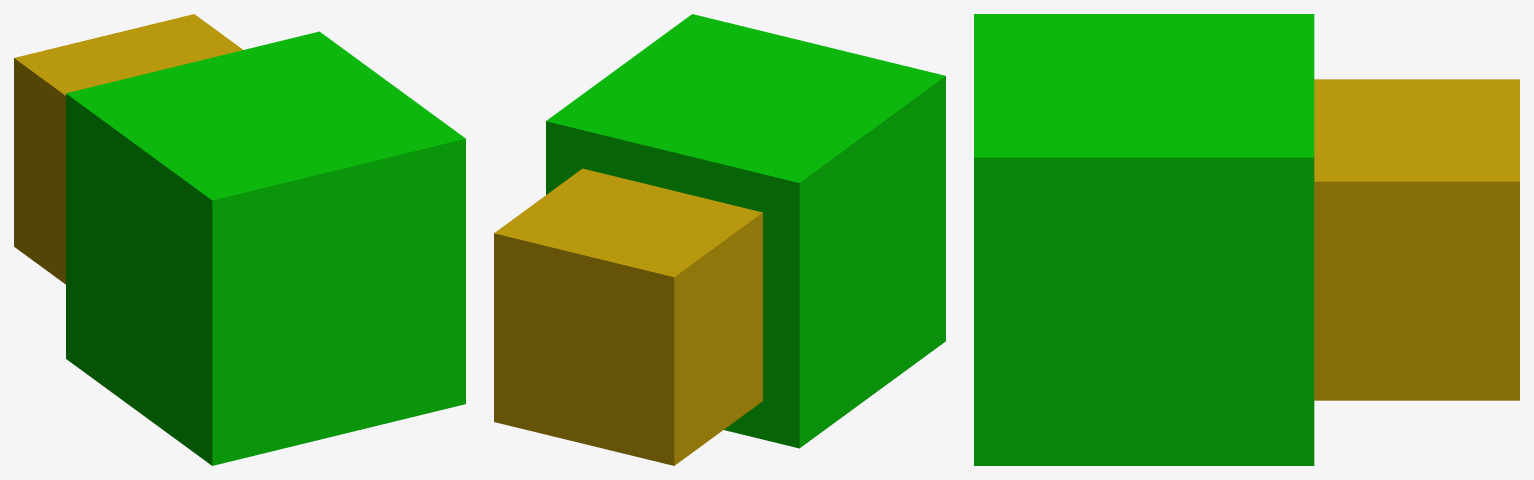
The model's file is bingus.obj.
3 renders of one model, left to right at view 1: azimuth 30°, elevation 25°; view 2: azimuth 150°, elevation 25°; view 3: azimuth 270°, elevation 25°, orthographic. The views are drawn at different scales.
Visible parts, largest first — view 1: Cube; view 2: Cube; view 3: Cube.
Part boxes in pixels (<box>): Cube: <box>14,14,465,465</box>; Cube: <box>494,14,945,465</box>; Cube: <box>974,14,1519,465</box>.
Bounding box in the file's own units: 2 × 2 × 3.21.
